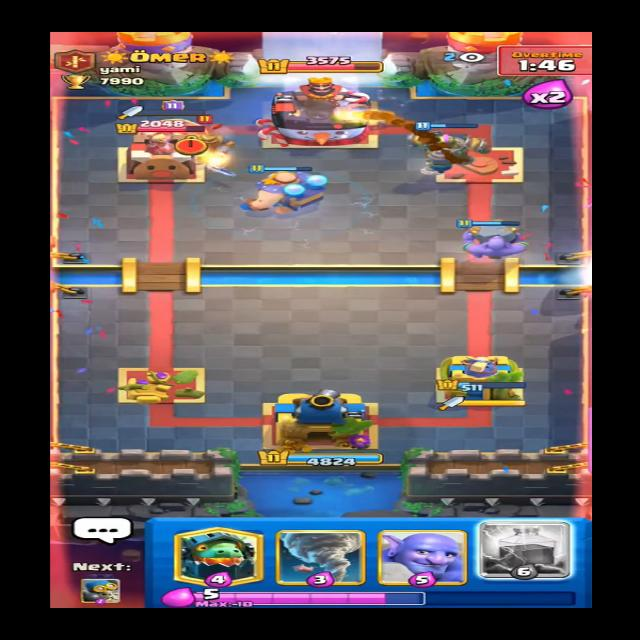Evowizard: (146, 102, 208, 134)
Prince: (183, 128, 240, 175)
